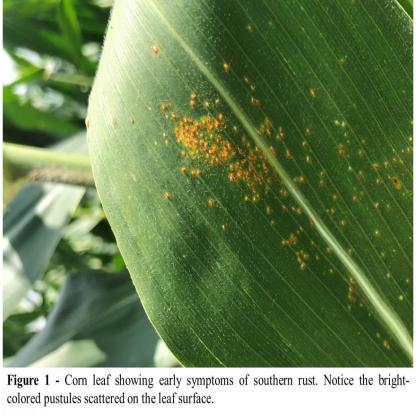Corn rust leaf: (81, 2, 413, 366)
